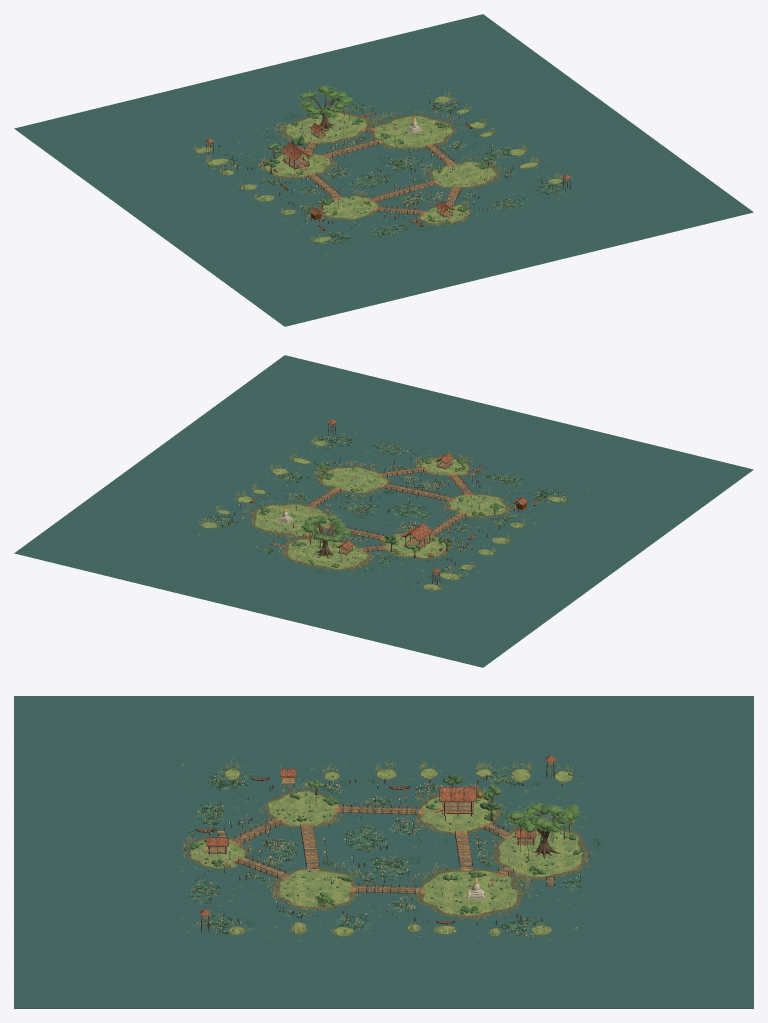
File: lotus-marsh.glb
3 views of the same model, one above another, from view 1: azimuth 30°, elevation 25°; view 2: azimuth 150°, elevation 25°; view 3: azimuth 270°, elevation 25° (orthographic). The views are drawn at different scales.
Visible parts, largest first — view 1: Water surface | water, Island meadow | grass2, Cupped floating lotus pads | lotus, Wetland islands - eroded banks | mud, Cupped floating lotus pads | lotus_dark, Bridge / side handrails | wood_light, Bridge / separate deck boards | wood_light, Bridge / separate deck boards | wood_weathered, Wetland reed stems | reeds, Bridge / separate deck boards | plank, Wetland reed leaves | grassblade, Organic understory shrubs | leaf; view 2: Water surface | water, Island meadow | grass2, Cupped floating lotus pads | lotus, Wetland islands - eroded banks | mud, Cupped floating lotus pads | lotus_dark, Bridge / side handrails | wood_light, Bridge / separate deck boards | wood_light, Wetland reed stems | reeds, Bridge / separate deck boards | wood_weathered, Bridge / separate deck boards | plank, Wetland reed leaves | grassblade; view 3: Water surface | water, Island meadow | grass2, Cupped floating lotus pads | lotus, Wetland islands - eroded banks | mud, Cupped floating lotus pads | lotus_dark, Wetland reed stems | reeds, Bridge / separate deck boards | wood_light, Bridge / separate deck boards | wood_weathered, Bridge / separate deck boards | plank, Wetland reed leaves | grassblade, Bridge / side handrails | wood_light, Organic understory shrubs | leaf (+7 smaller).
Boxes of the visible parts, bbox=[...] form: Water surface | water: bbox=[14, 14, 753, 326]; Island meadow | grass2: bbox=[196, 96, 561, 241]; Cupped floating lotus pads | lotus: bbox=[196, 90, 576, 256]; Wetland islands - eroded banks | mud: bbox=[195, 96, 562, 242]; Cupped floating lotus pads | lotus_dark: bbox=[208, 99, 570, 244]; Bridge / side handrails | wood_light: bbox=[305, 125, 461, 213]; Bridge / separate deck boards | wood_light: bbox=[305, 127, 461, 215]; Bridge / separate deck boards | wood_weathered: bbox=[305, 127, 462, 214]; Wetland reed stems | reeds: bbox=[194, 92, 563, 242]; Bridge / separate deck boards | plank: bbox=[305, 127, 460, 214]; Wetland reed leaves | grassblade: bbox=[193, 93, 562, 242]; Organic understory shrubs | leaf: bbox=[200, 99, 556, 240]; Water surface | water: bbox=[14, 355, 753, 667]; Island meadow | grass2: bbox=[202, 440, 564, 590]; Cupped floating lotus pads | lotus: bbox=[190, 429, 588, 589]; Wetland islands - eroded banks | mud: bbox=[201, 440, 565, 590]; Cupped floating lotus pads | lotus_dark: bbox=[207, 435, 568, 577]; Bridge / side handrails | wood_light: bbox=[304, 465, 471, 549]; Bridge / separate deck boards | wood_light: bbox=[303, 467, 472, 551]; Wetland reed stems | reeds: bbox=[199, 435, 567, 590]; Bridge / separate deck boards | wood_weathered: bbox=[305, 467, 471, 551]; Bridge / separate deck boards | plank: bbox=[304, 467, 472, 550]; Wetland reed leaves | grassblade: bbox=[198, 437, 568, 590]; Water surface | water: bbox=[14, 696, 753, 1008]; Island meadow | grass2: bbox=[191, 768, 582, 935]; Cupped floating lotus pads | lotus: bbox=[180, 763, 587, 941]; Wetland islands - eroded banks | mud: bbox=[187, 768, 588, 936]; Cupped floating lotus pads | lotus_dark: bbox=[189, 767, 581, 936]; Wetland reed stems | reeds: bbox=[183, 760, 595, 936]; Bridge / separate deck boards | wood_light: bbox=[232, 806, 511, 893]; Bridge / separate deck boards | wood_weathered: bbox=[235, 807, 514, 893]; Bridge / separate deck boards | plank: bbox=[232, 806, 513, 893]; Wetland reed leaves | grassblade: bbox=[183, 761, 594, 935]; Bridge / side handrails | wood_light: bbox=[235, 803, 512, 891]; Organic understory shrubs | leaf: bbox=[189, 769, 583, 930].
Bounding box in the file's own units: 240 × 17.02 × 240.
Materials: 53 (53 with a texture image).
